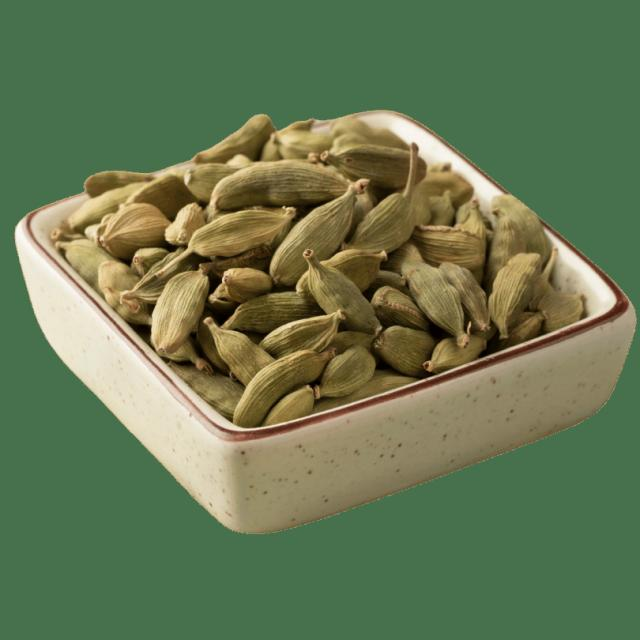Cardamom: (70, 106, 600, 428)
